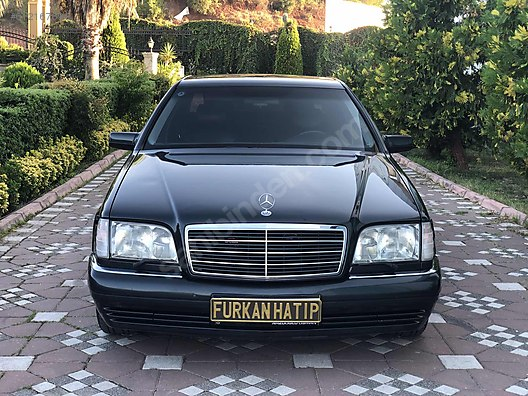mercedes: (86, 66, 448, 351)
